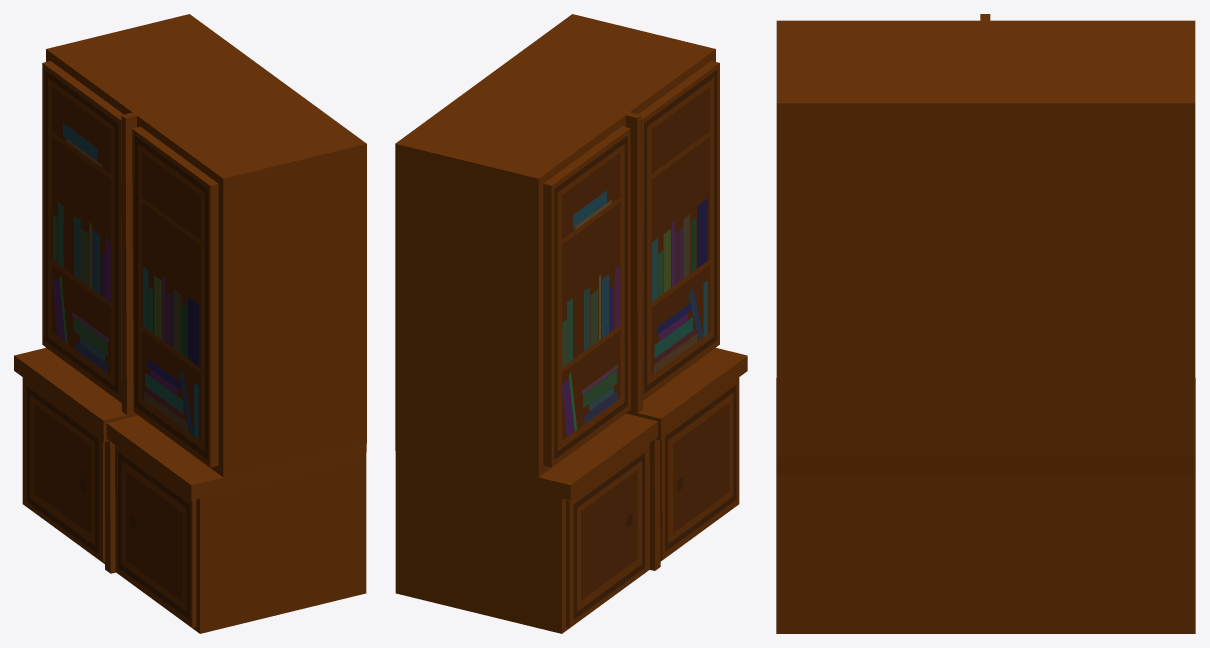
The model's file is Bookshelf3.obj.
3 views of the same model, side by side, from view 1: azimuth 30°, elevation 25°; view 2: azimuth 150°, elevation 25°; view 3: azimuth 270°, elevation 25° (orthographic). The views are drawn at different scales.
Visible parts, largest first — view 1: Bookcase; view 2: Bookcase; view 3: Bookcase.
Part boxes in pixels (<box>): Bookcase: <box>14,14,366,633</box>; Bookcase: <box>395,14,747,633</box>; Bookcase: <box>776,14,1195,633</box>.
Bounding box in the file's own units: 136 × 328 × 235.
